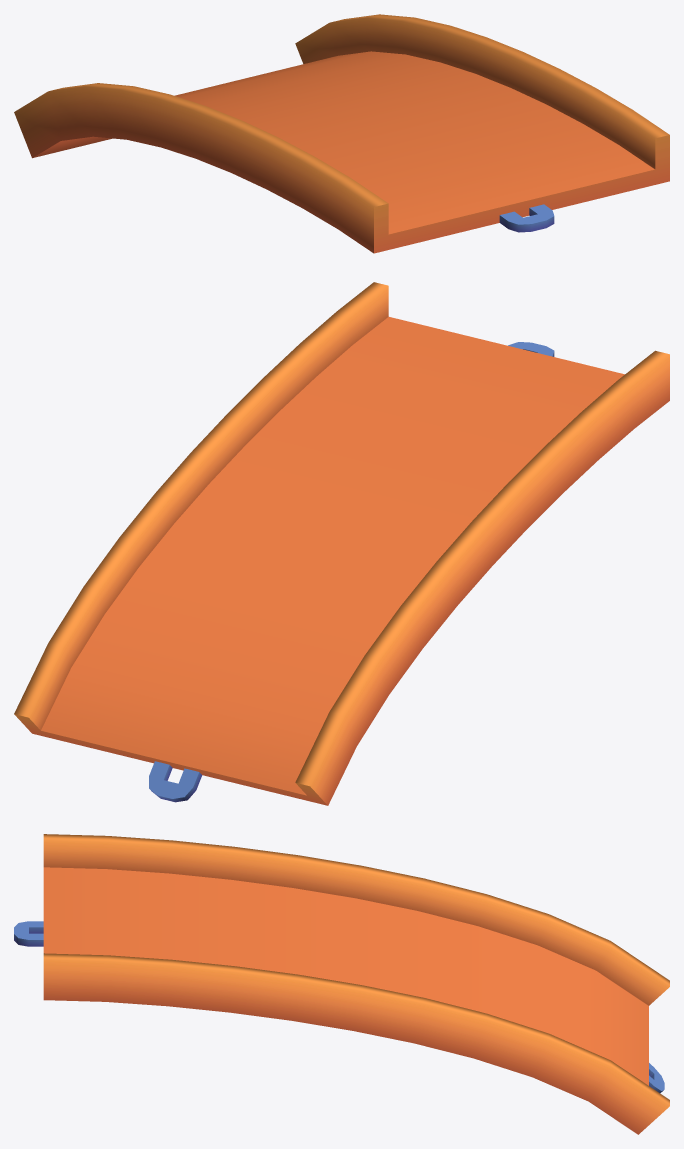
The model's file is kenney-toy-car-track-wide-straight-hill-end.glb.
The picture shows the model from 3 angles, top to bottom: view 1: azimuth 30°, elevation 25°; view 2: azimuth 150°, elevation 25°; view 3: azimuth 270°, elevation 25°; orthographic projection. The views are drawn at different scales.
Parts seen in each view (by area): view 1: track-wide-straight-hill-end; view 2: track-wide-straight-hill-end; view 3: track-wide-straight-hill-end.
Boxes of the visible parts, x1,y1,x2,y2 form: track-wide-straight-hill-end: [14, 14, 669, 253]; track-wide-straight-hill-end: [14, 282, 669, 805]; track-wide-straight-hill-end: [14, 834, 669, 1134].
Size of the model in its own units: 2 by 1.44 by 4.41.
Materials: 1 (1 with a texture image).
